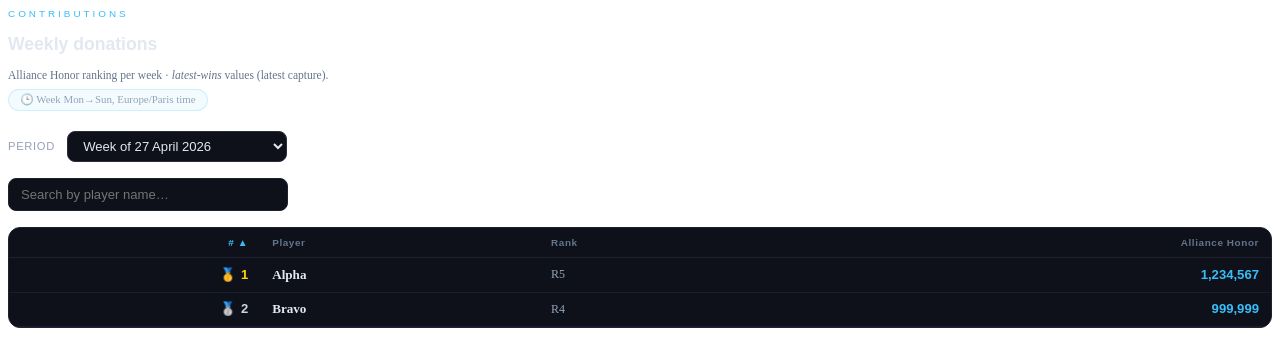
Test: DonationsPage › filters the leaderboard by player name search
Expected: the text "Alpha" is shown, [260,257,539,292]
Expected: the text "Bravo" is shown, [260,292,539,327]
Type "alph" into the field labelled "Search by player name…" at (148,195), box [8,178,288,211]
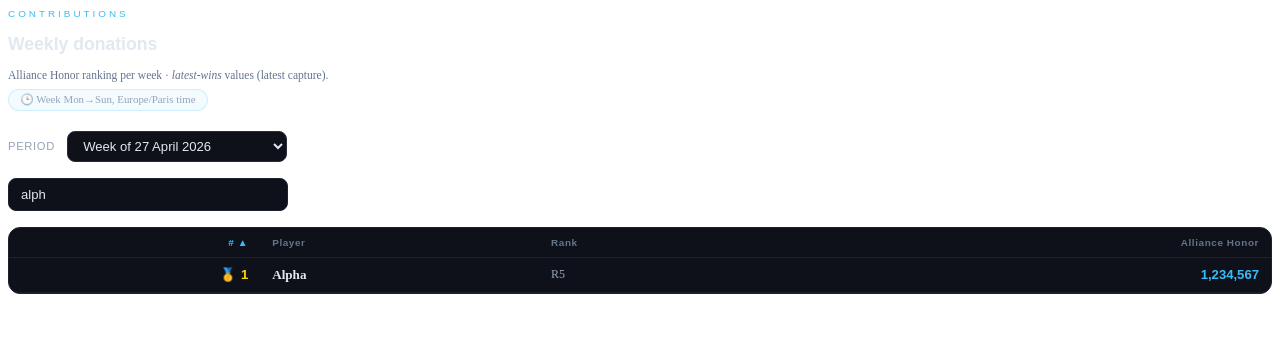
Expected: the text "Alpha" is shown, [260,257,539,292]
Now the text "Bravo" is gone
